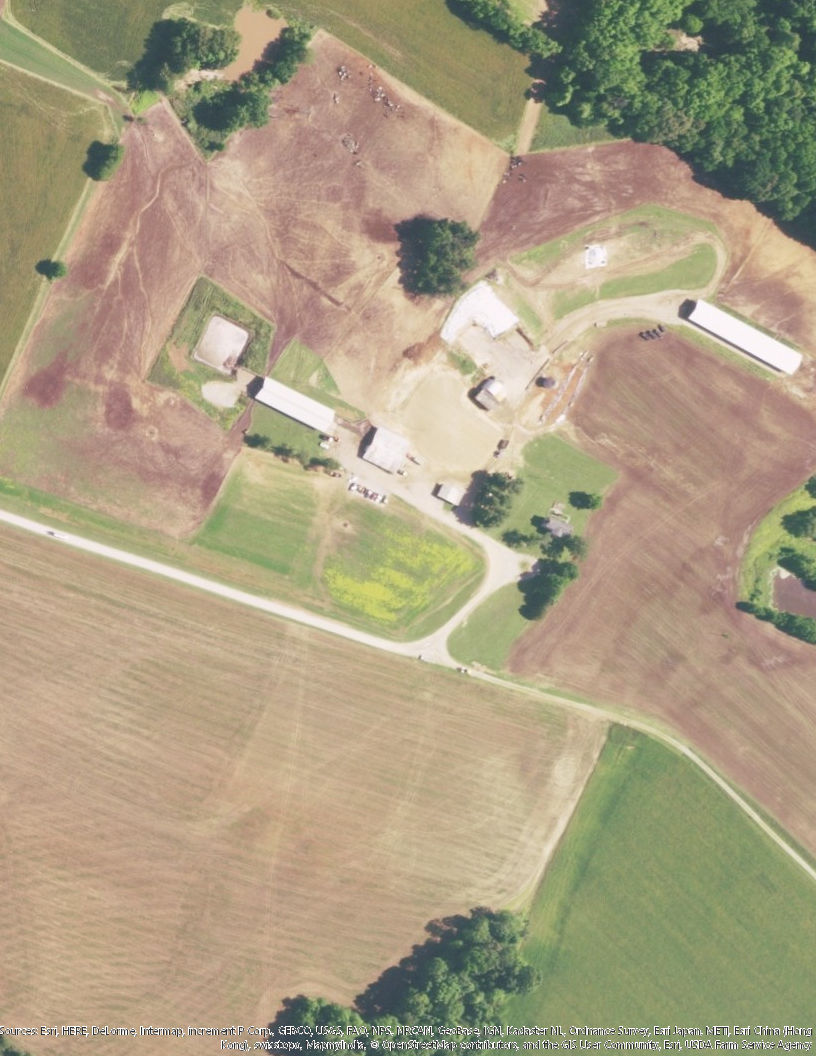cafo: (683, 295, 807, 376), (251, 374, 342, 439)
